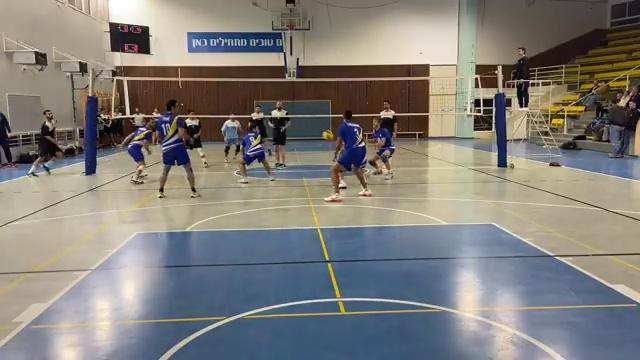ball: (324, 130, 333, 140)
